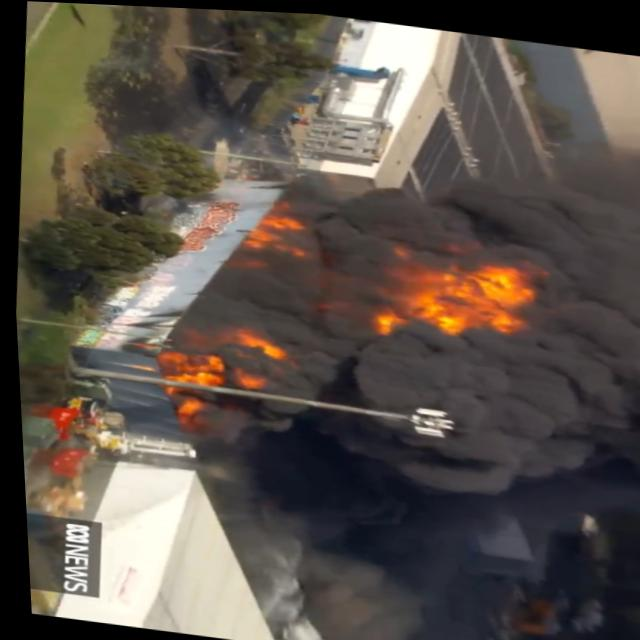Fire: (373, 231, 554, 343), (149, 317, 300, 432), (241, 202, 320, 261)
